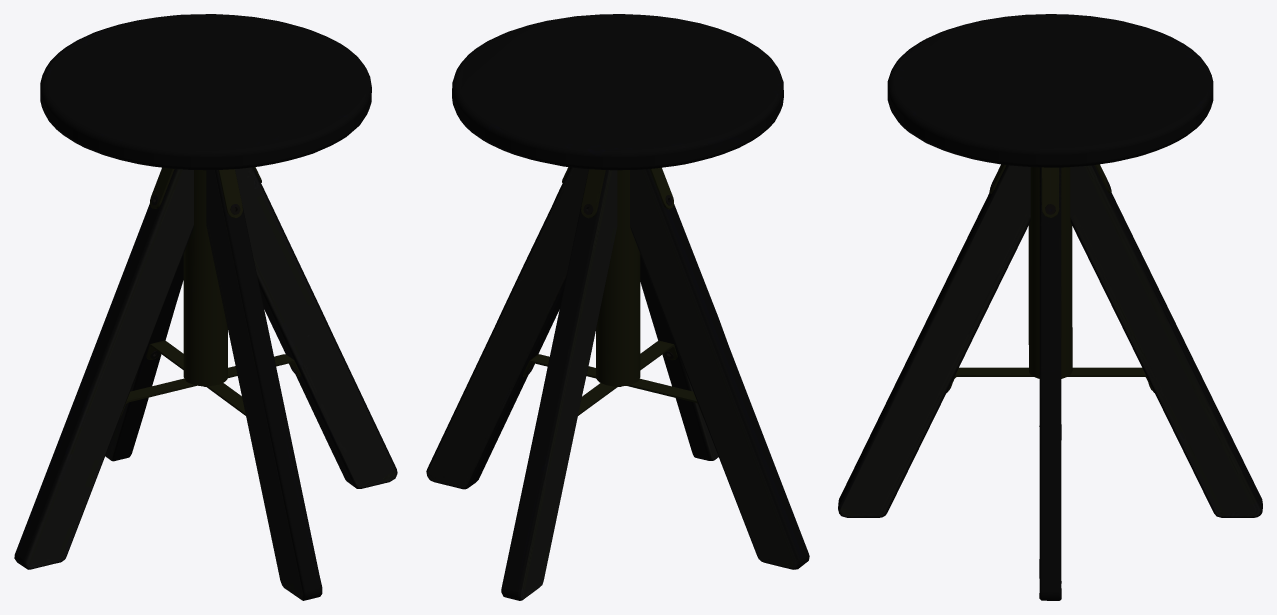
Rendered from rudstorp_stoek_60610102.glb.
The picture shows the model from 3 angles, left to right: view 1: azimuth 30°, elevation 25°; view 2: azimuth 150°, elevation 25°; view 3: azimuth 270°, elevation 25°; orthographic projection.
Visible parts, largest first — view 1: rudstorp_stoek_60610102; view 2: rudstorp_stoek_60610102; view 3: rudstorp_stoek_60610102.
Part boxes in pixels (bbox=[...]): rudstorp_stoek_60610102: bbox=[14, 14, 397, 600]; rudstorp_stoek_60610102: bbox=[426, 14, 809, 600]; rudstorp_stoek_60610102: bbox=[838, 14, 1262, 600].
Bounding box in the file's own units: 0.3914 × 0.4404 × 0.3913.
Materials: 2 (2 with a texture image).
